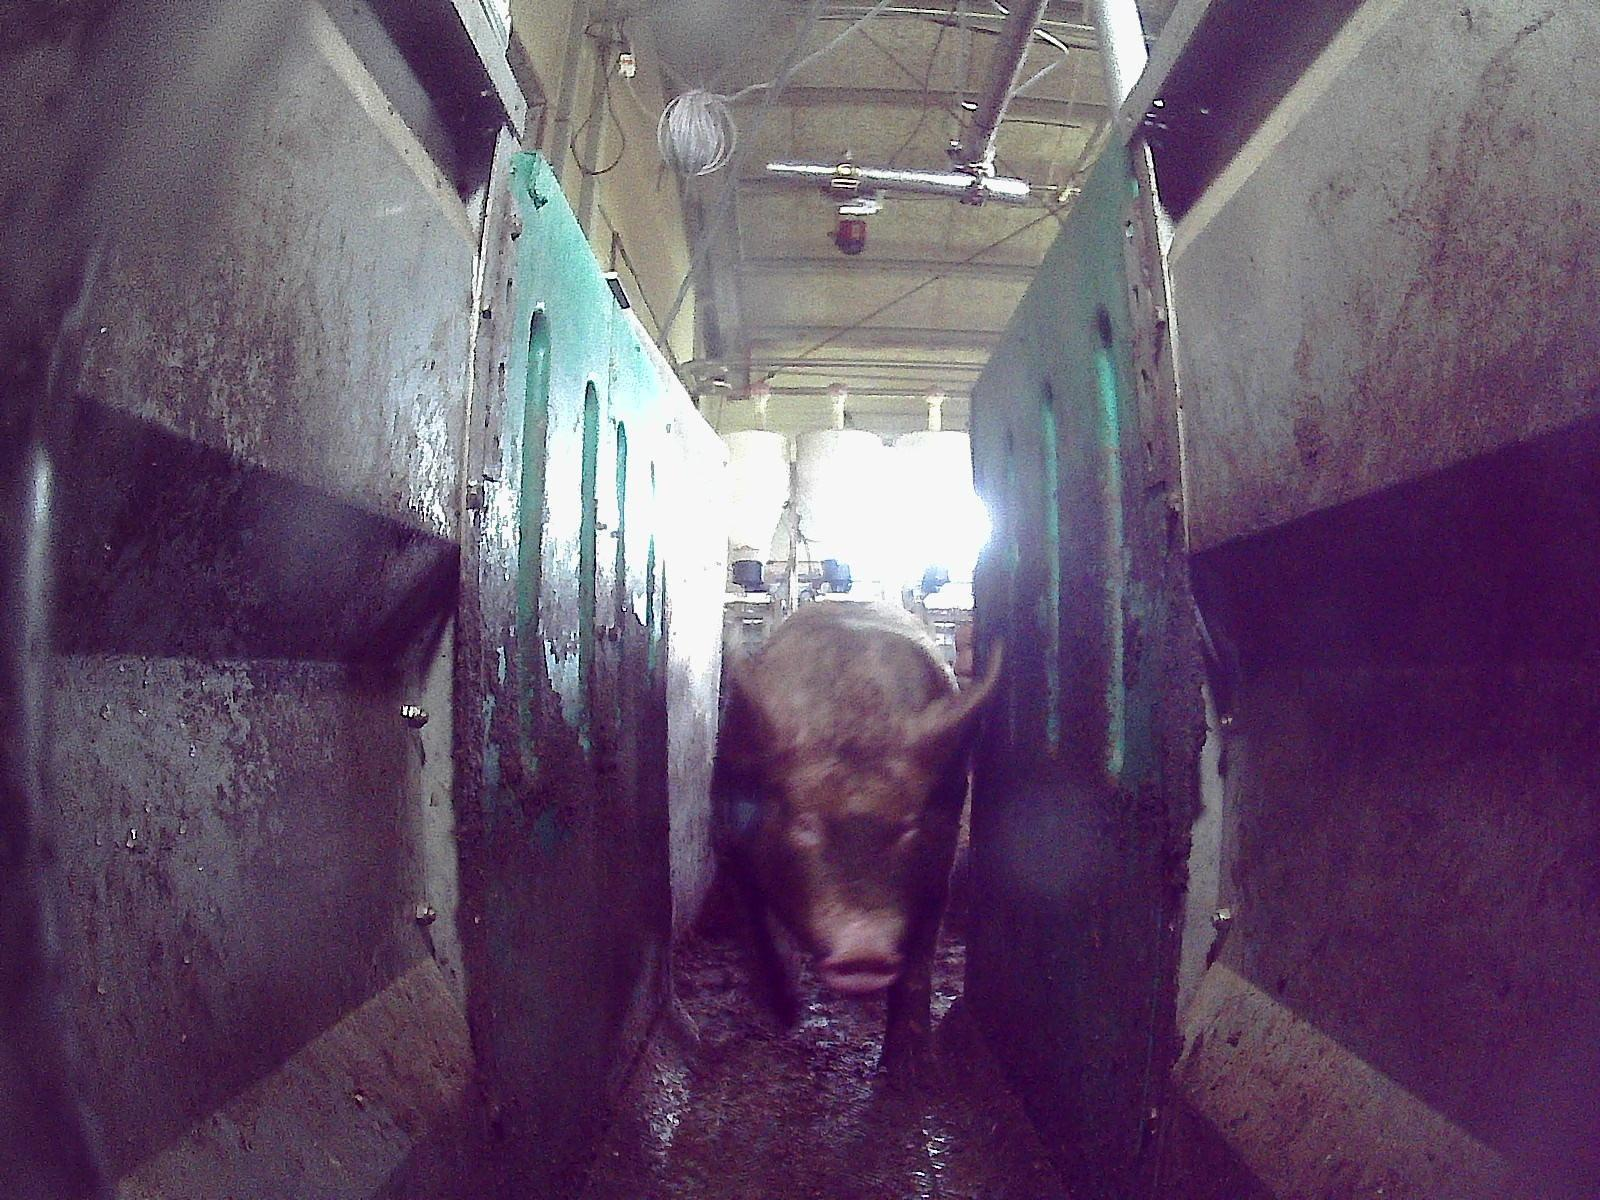Face: (750, 719, 932, 998)
